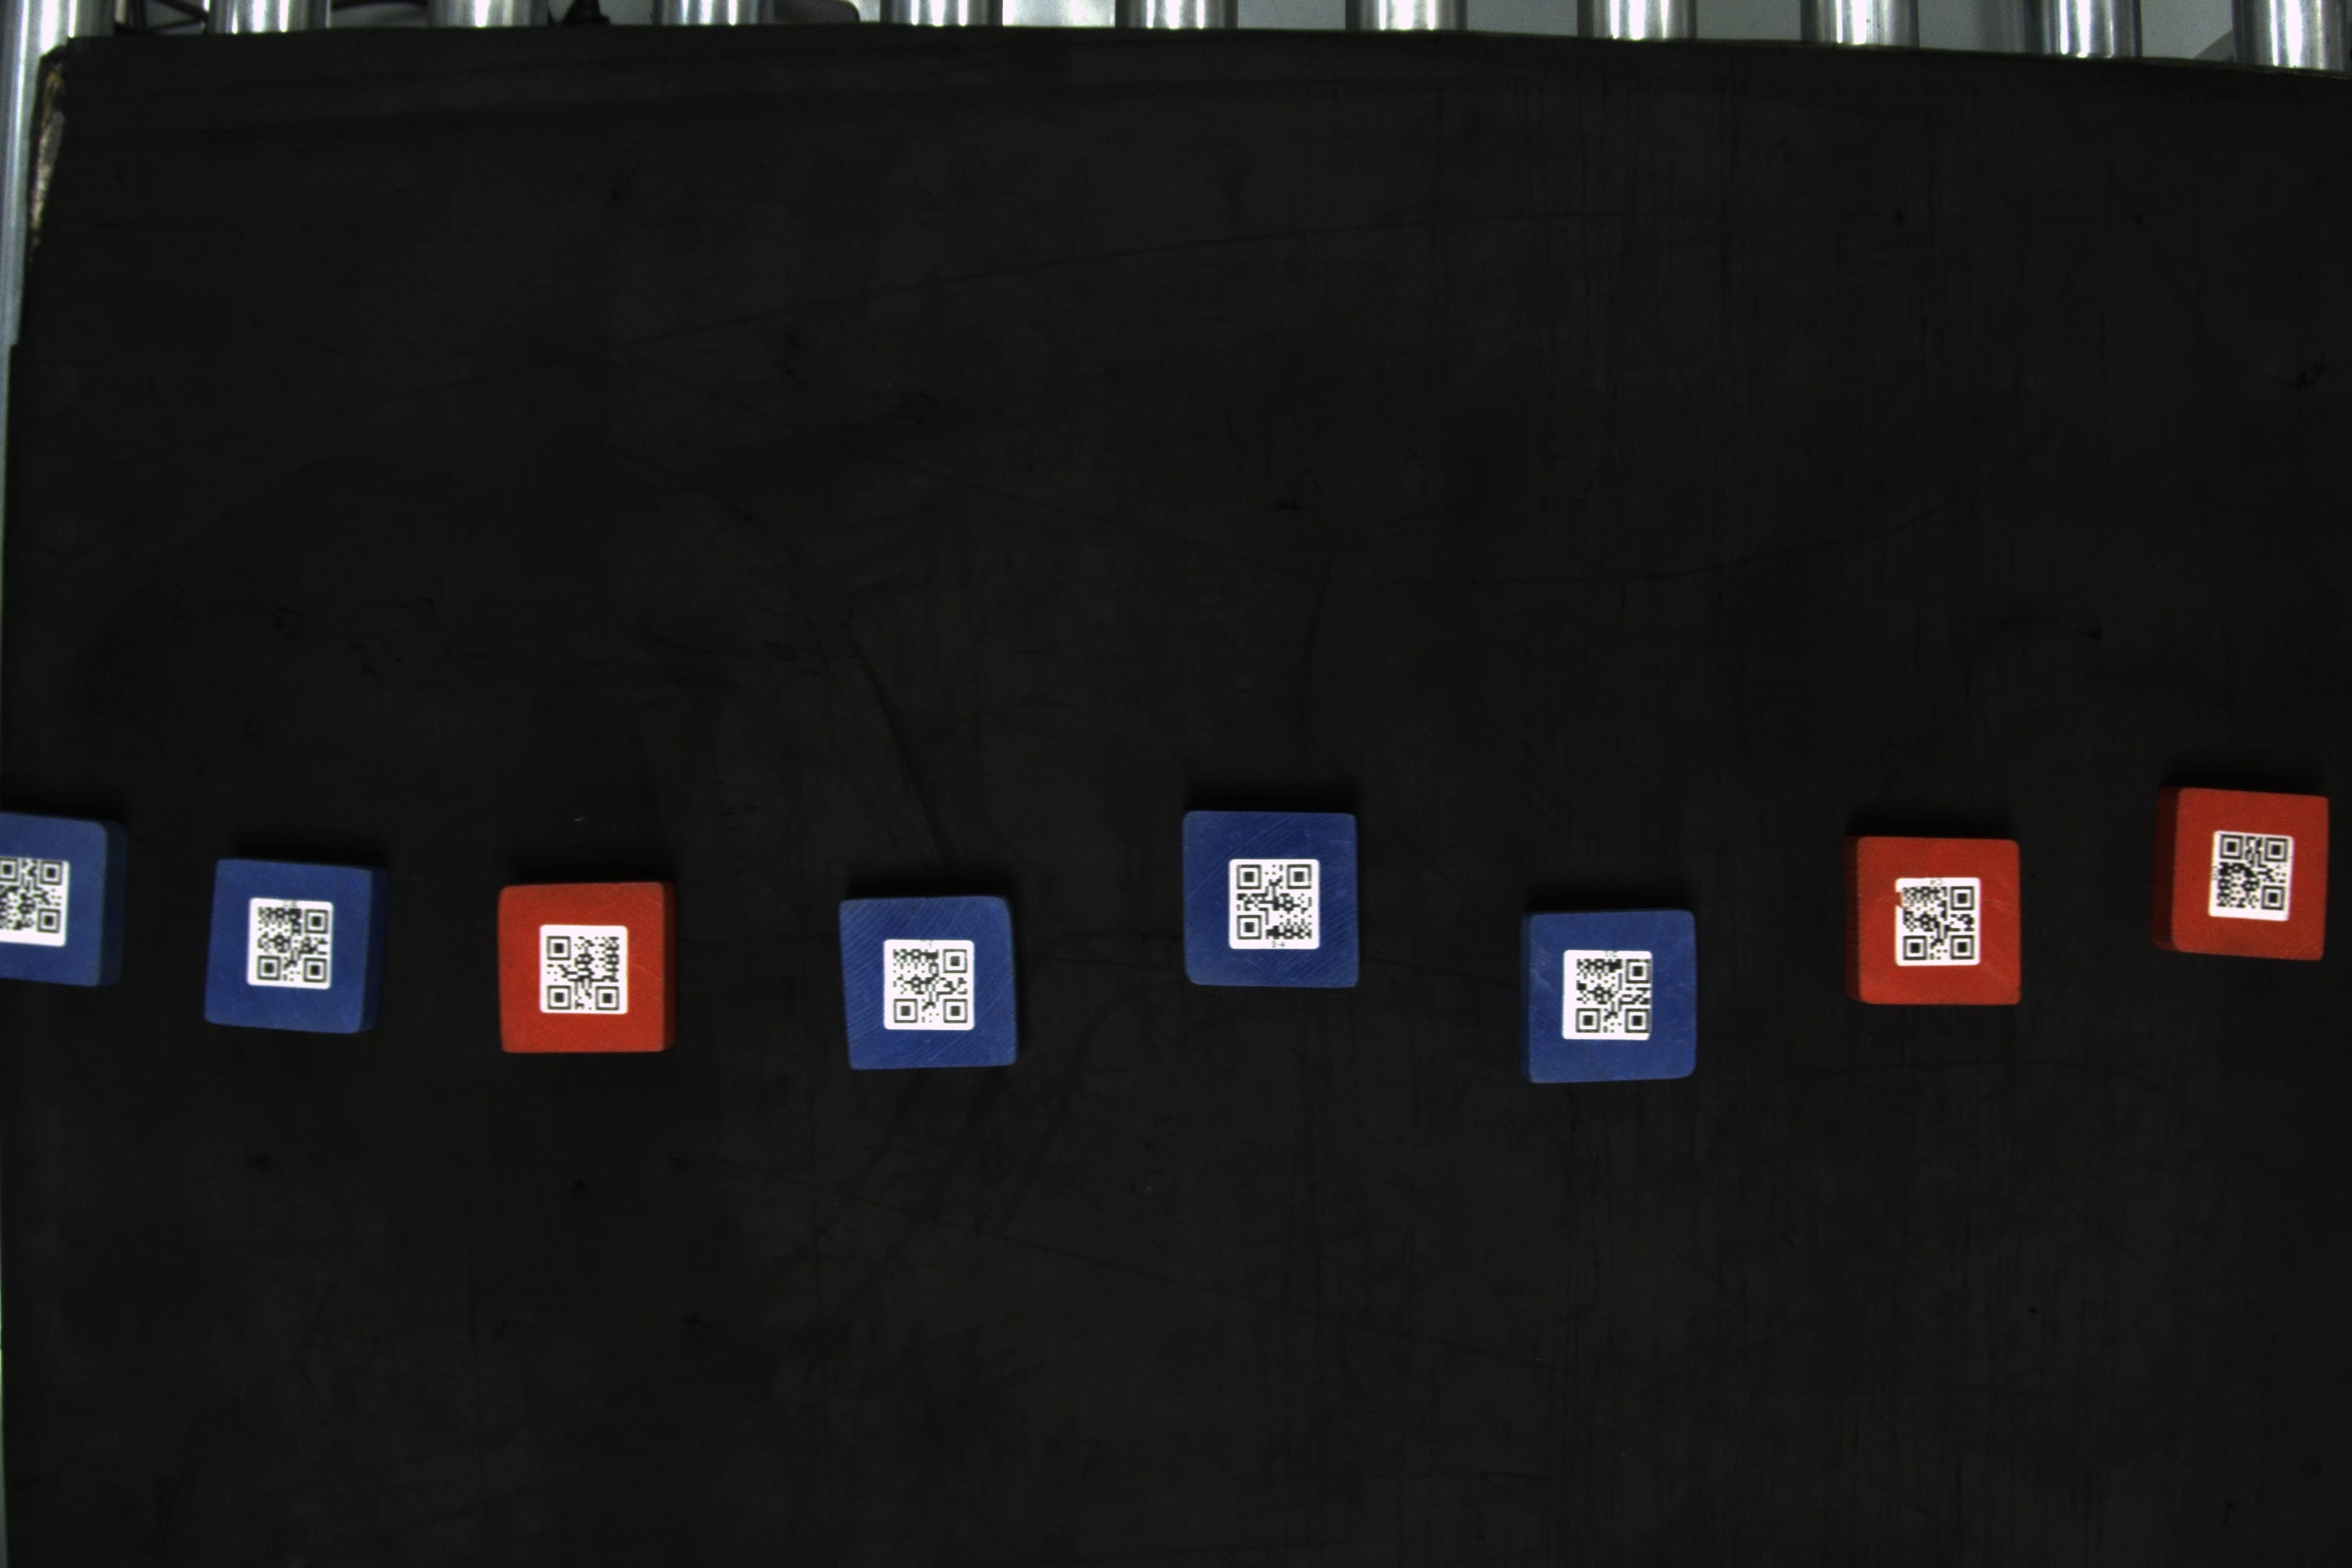wood: (1174, 801, 1372, 996), (196, 852, 385, 1039), (493, 875, 679, 1062), (1519, 901, 1706, 1085), (2147, 780, 2334, 964), (833, 896, 1027, 1073), (1844, 831, 2030, 1011), (2, 807, 135, 996)
